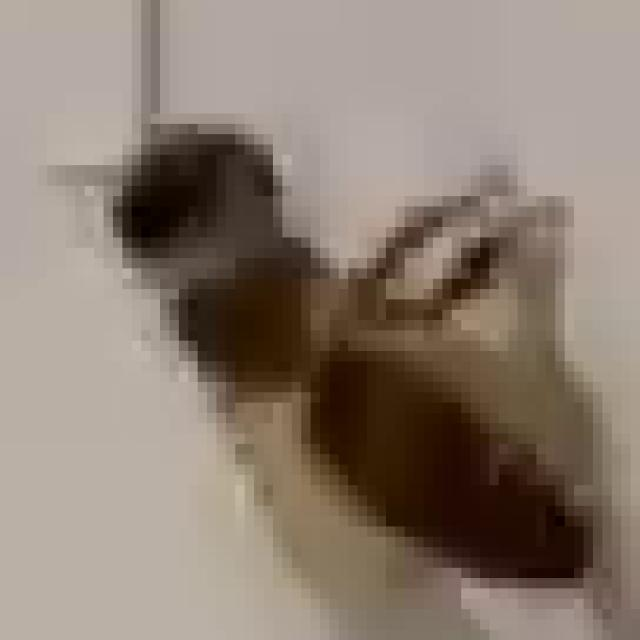honeybee: (71, 61, 621, 618)
